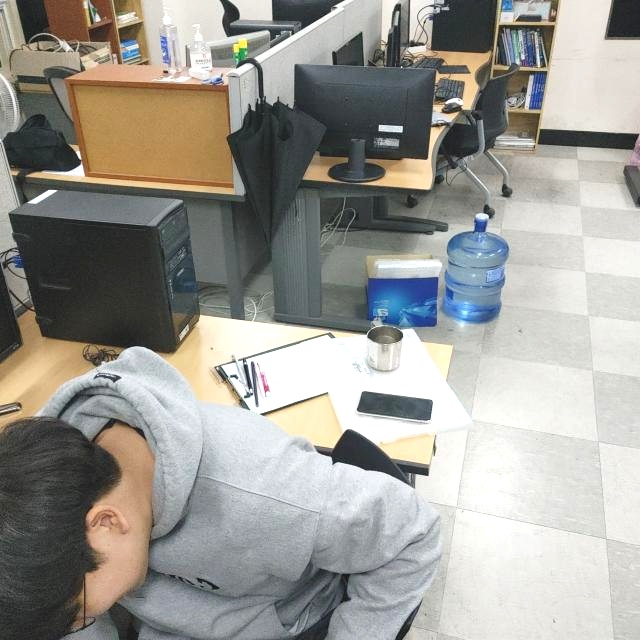cup: (364, 317, 405, 371)
phone: (356, 387, 434, 427)
